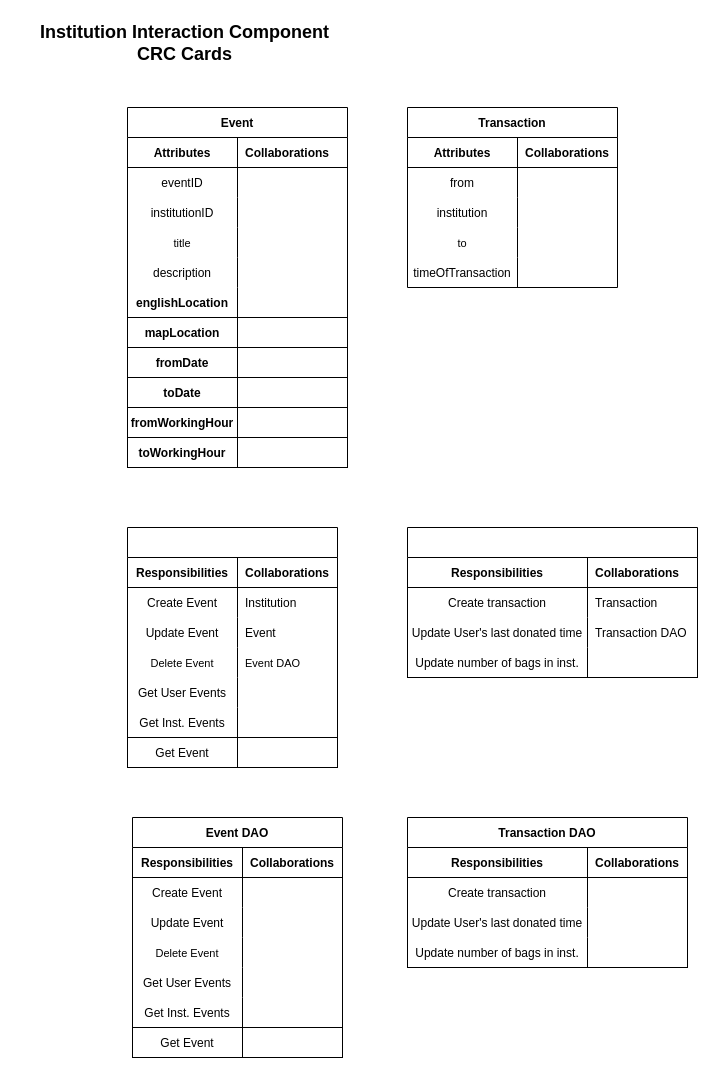
Image size: 715x1075. Some labels were removed from this diagram. Here are the shapes that lost their labels. From the top down, the box of each, then its label:
(406, 526, 698, 678): Transaction Service
(126, 526, 338, 768): Event Service
